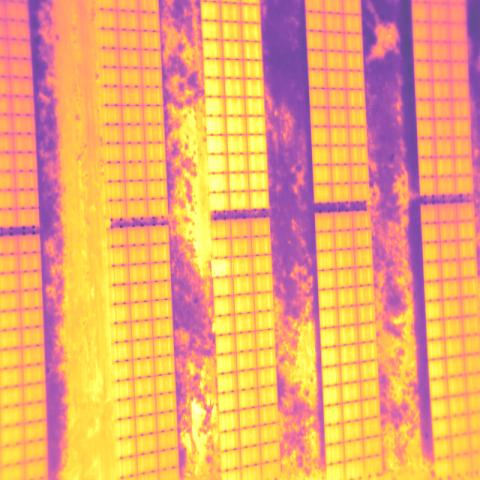fault: (212, 257, 234, 278)
